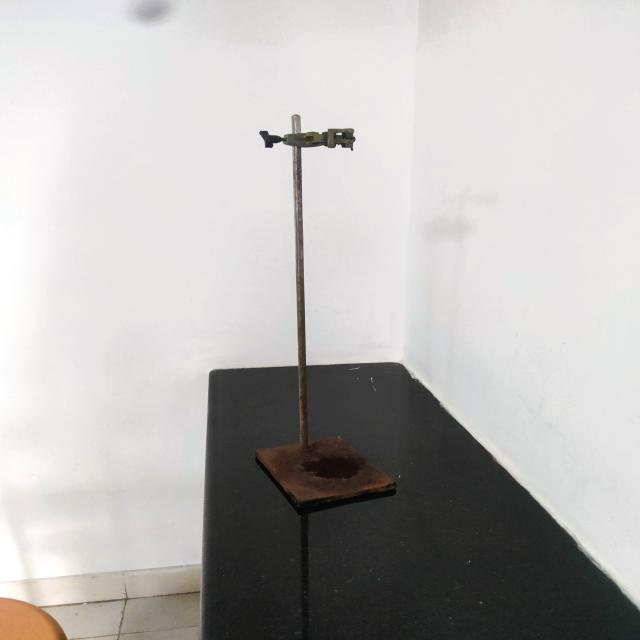Burette_Stands: (218, 107, 410, 516)
